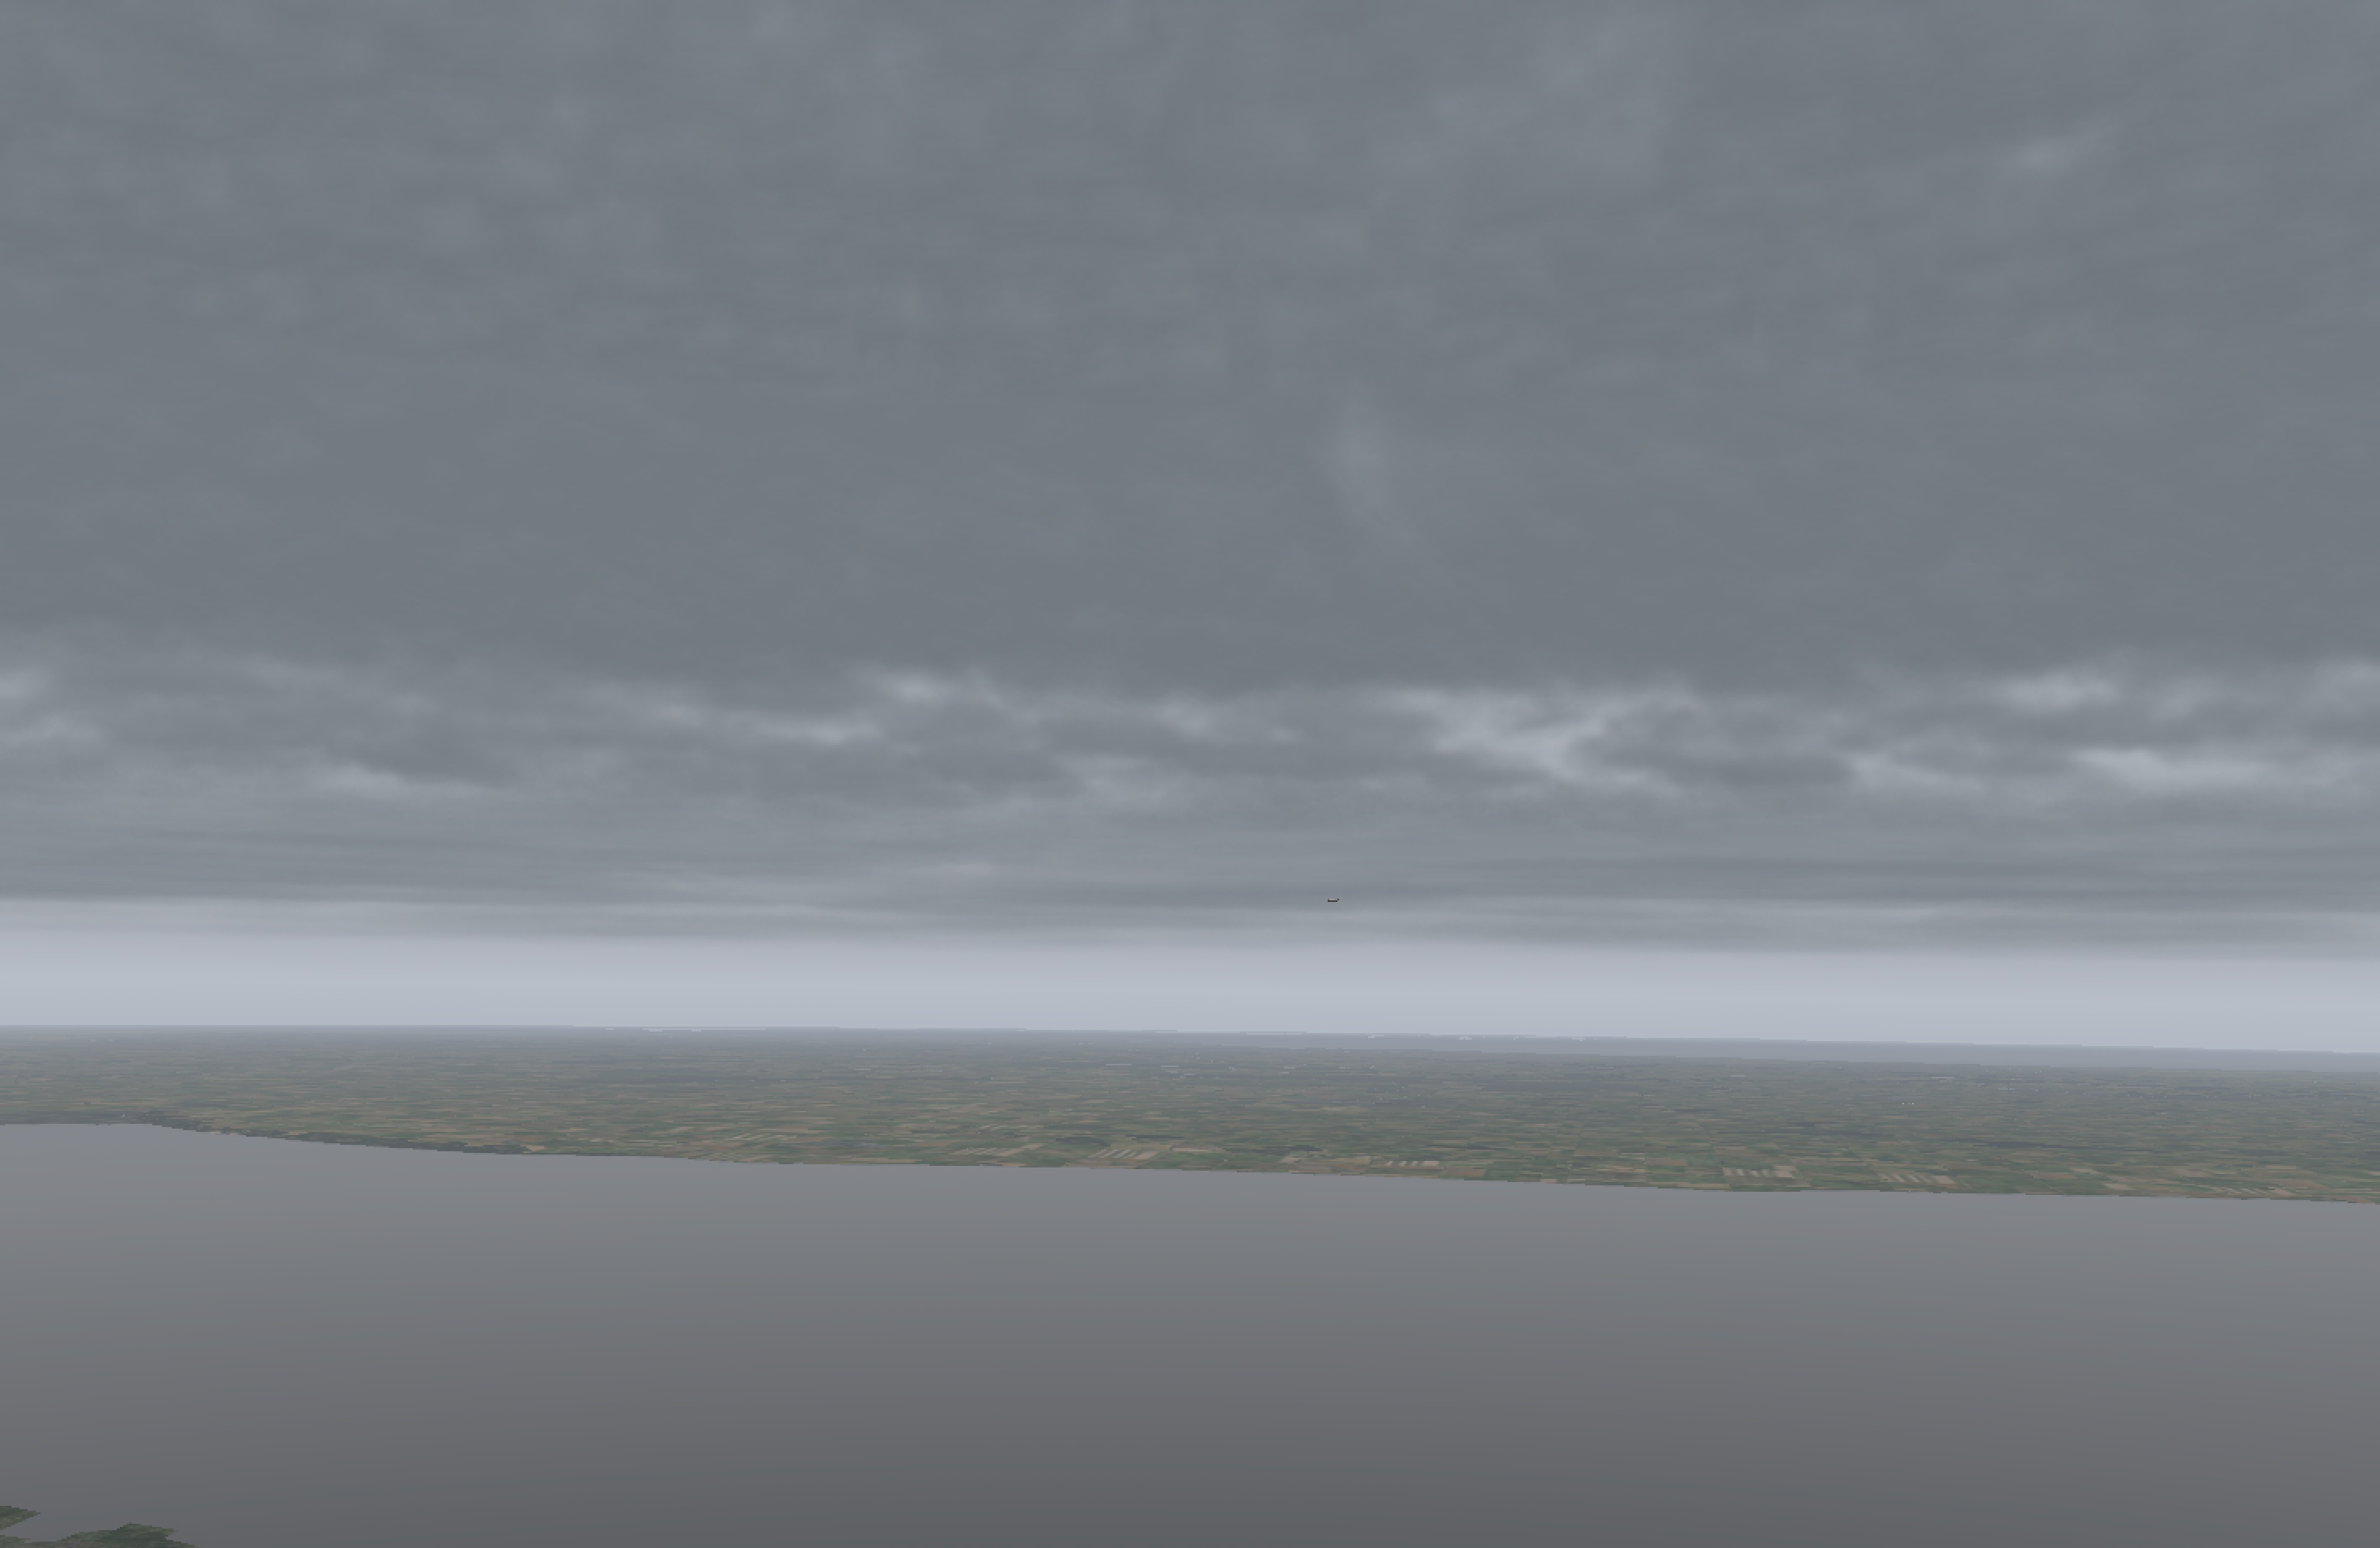aircraft: (1324, 899, 1336, 902)
